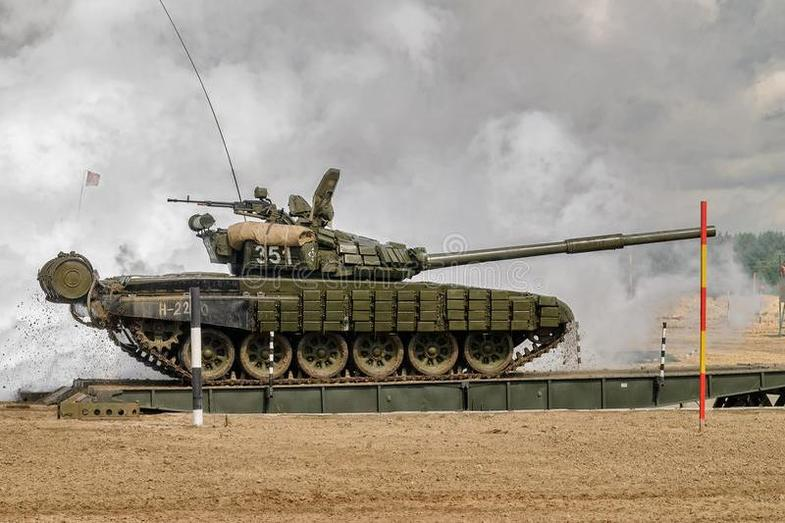t72: (42, 193, 688, 369)
